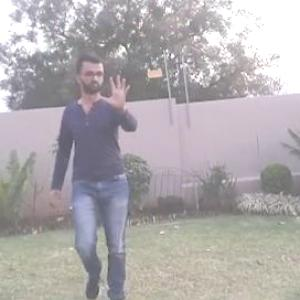follow_hand: (98, 70, 134, 109)
